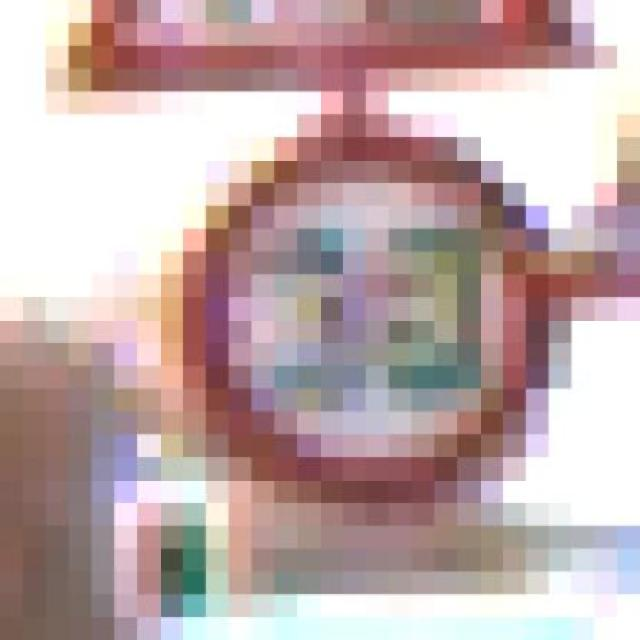Speed Limit 30 KMPh: (183, 91, 572, 526)
